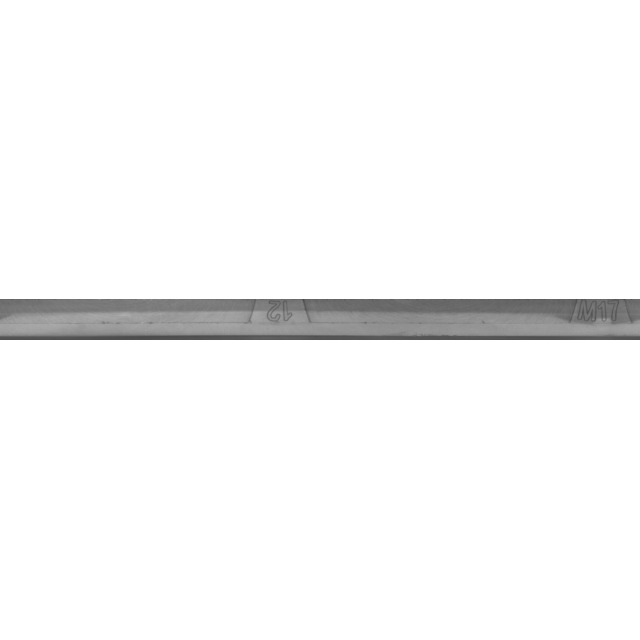mohao: (507, 270, 640, 370)
xuehao: (189, 270, 389, 370)
